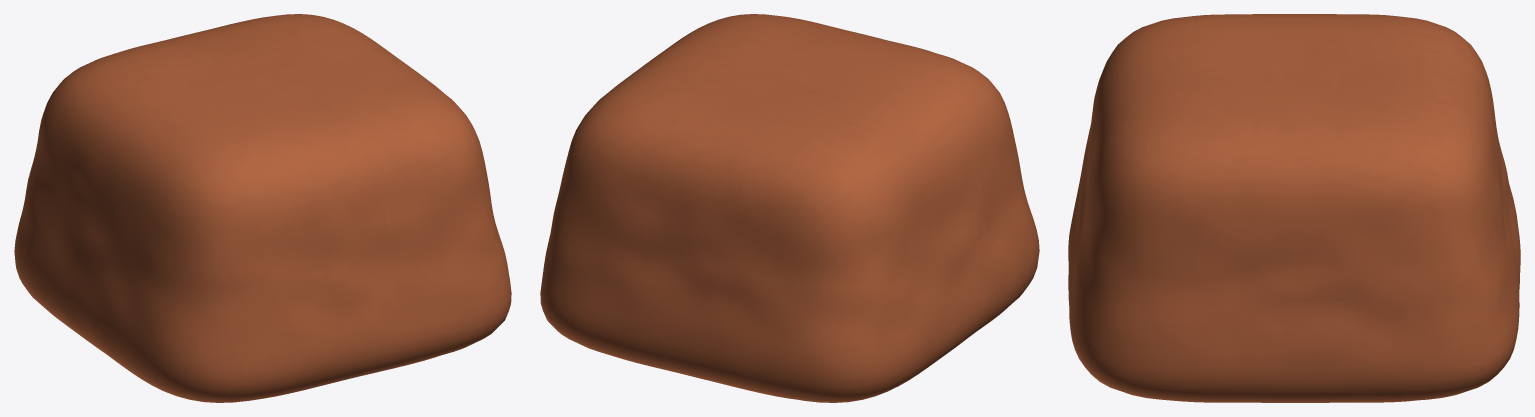
Rendered from pouf-terracotta.glb.
3 renders of one model, left to right at view 1: azimuth 30°, elevation 25°; view 2: azimuth 150°, elevation 25°; view 3: azimuth 270°, elevation 25°, orthographic. The views are drawn at different scales.
Visible parts, largest first — view 1: fabric_primary; view 2: fabric_primary; view 3: fabric_primary.
Boxes of the visible parts, left/top/right/bottom form: fabric_primary: left=14, top=14, right=511, bottom=402; fabric_primary: left=540, top=14, right=1039, bottom=402; fabric_primary: left=1068, top=14, right=1520, bottom=402.
Size of the model in its own units: 0.5919 by 0.38 by 0.5925.
1 material, 1 textured.
